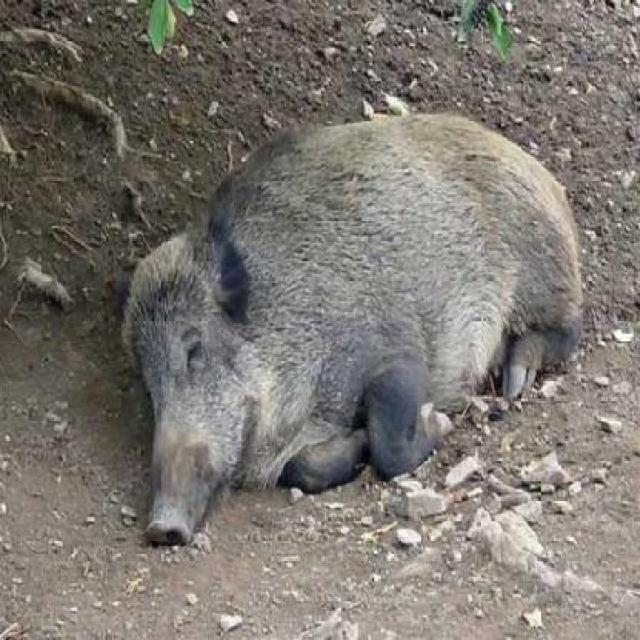Boar: (117, 100, 635, 546)
